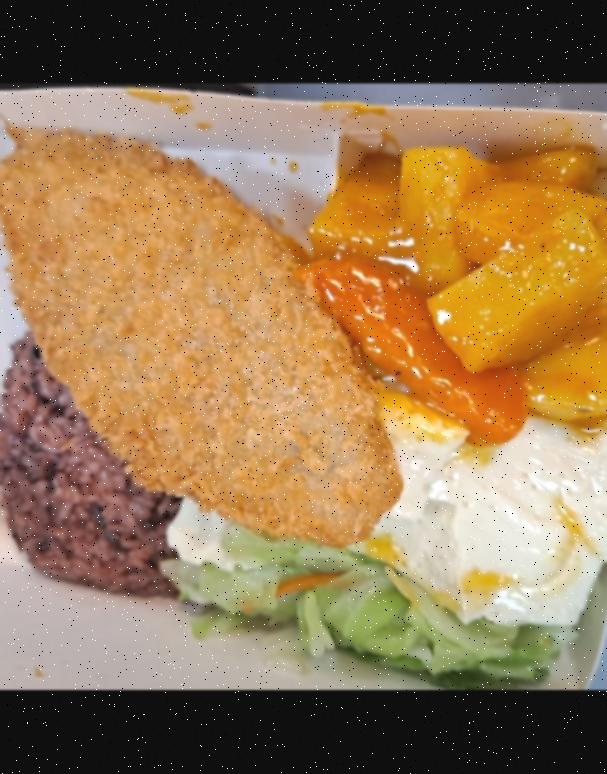big grilled chicken leg: (0, 85, 607, 690)
braised fish: (0, 325, 199, 597)
braised fish fillet: (298, 133, 607, 422), (159, 498, 572, 690), (385, 393, 607, 625)
braised pork: (0, 122, 398, 545)
